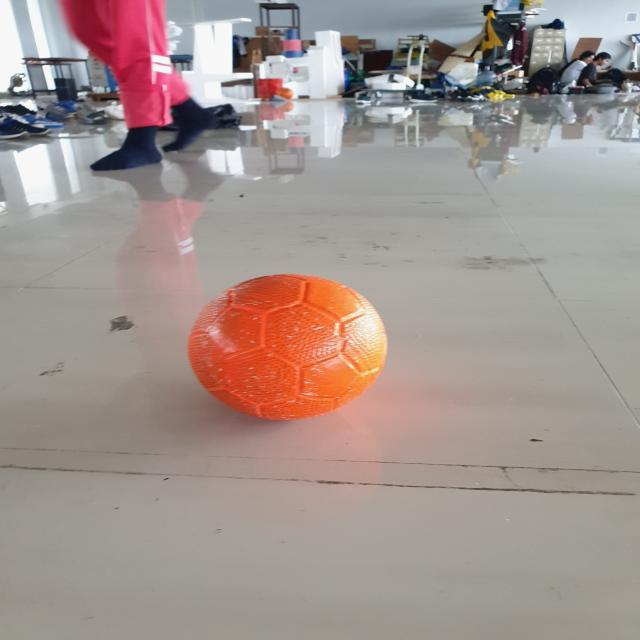bola: (180, 266, 405, 434)
